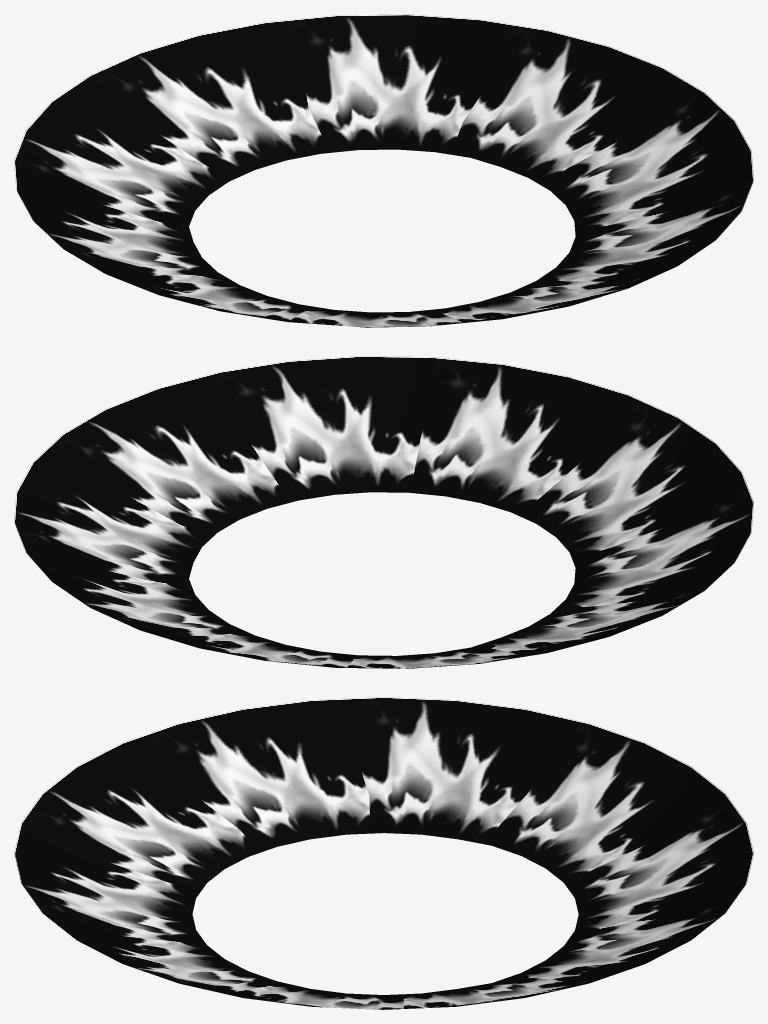
The picture shows the model from 3 angles, top to bottom: view 1: azimuth 30°, elevation 25°; view 2: azimuth 150°, elevation 25°; view 3: azimuth 270°, elevation 25°; orthographic projection.
Visible parts, largest first — view 1: Sphere001; view 2: Sphere001; view 3: Sphere001.
Boxes of the visible parts, x1,y1,x2,y2 form: Sphere001: [14, 14, 753, 327]; Sphere001: [14, 356, 753, 668]; Sphere001: [14, 697, 753, 1009].
Bounding box in the file's own units: 114 × 114 × 10.32.
